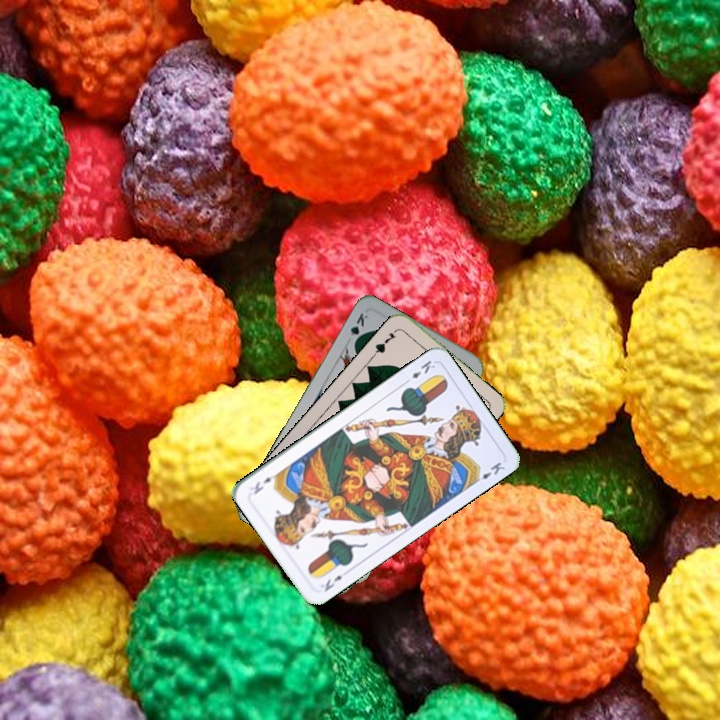EK: (401, 356, 438, 386), (320, 571, 345, 594)
G7: (369, 325, 400, 358)
GK: (345, 309, 372, 348)
